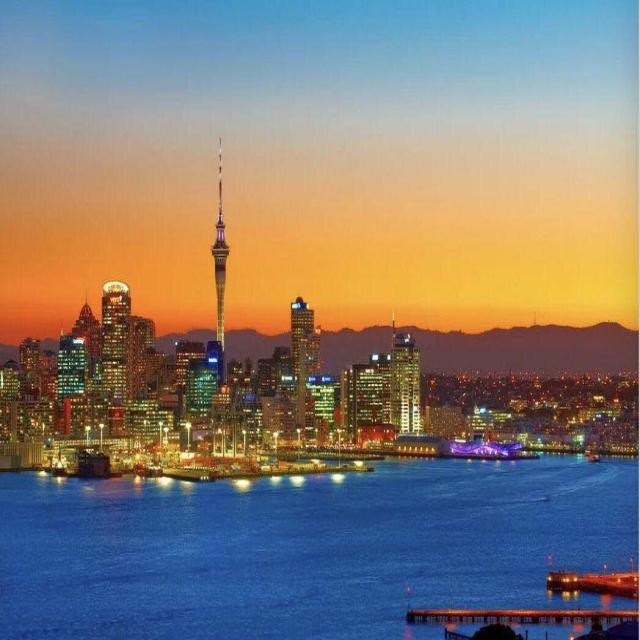other: (291, 210, 631, 348), (139, 419, 375, 495)
